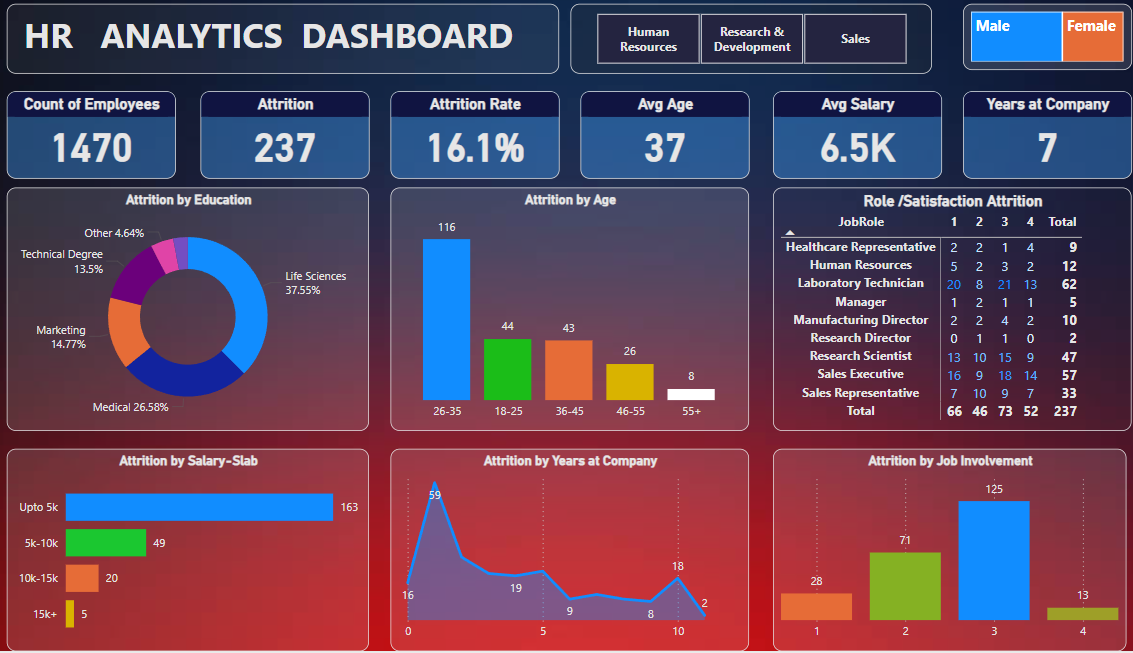

The dashboard page shown, as its layout file describes it:
{"tool":"powerbi","page":{"name":"Page 1","canvas":[1280,720],"ordinal":0},"visuals":[{"type":"card","title":"Count of Employees","fields":{"Values":["CountNonNull(HR_Analytics.EmpID)"]},"box":[20.6,105.7,185.2,96.1],"z":0},{"type":"card","title":"Attrition","fields":{"Values":["Sum(HR_Analytics.AttritionCount)"]},"box":[233.3,105.7,185.2,96.1],"z":1000},{"type":"card","title":"Avg Salary","fields":{"Values":["Avg(HR_Analytics.MonthlyIncome)"]},"box":[861.8,105.7,185.2,96.1],"z":2000},{"type":"card","title":"Attrition Rate","fields":{"Values":["HR_Analytics.AttritionRate"]},"box":[441.9,105.7,185.2,96.1],"z":3000},{"type":"card","title":"Years at Company","fields":{"Values":["Avg(HR_Analytics.YearsAtCompany)"]},"box":[1070.3,105.7,185.2,96.1],"z":4000},{"type":"card","title":"Avg Age","fields":{"Values":["Avg(HR_Analytics.Age)"]},"box":[650.4,105.7,185.2,96.1],"z":5000},{"type":"donutChart","title":"Attrition by Education","fields":{"Y":["Sum(HR_Analytics.AttritionCount)"],"Category":["HR_Analytics.EducationField"]},"box":[20.6,211.3,397.9,267.6],"z":6000},{"type":"columnChart","title":"Attrition by Age","fields":{"Y":["Sum(HR_Analytics.AttritionCount)"],"Category":["HR_Analytics.AgeGroup"]},"box":[441.9,211.3,393.8,267.6],"z":7000},{"type":"pivotTable","title":"Role /Satisfaction Attrition             ","fields":{"Rows":["HR_Analytics.JobRole"],"Values":["Sum(HR_Analytics.AttritionCount)"],"Columns":["HR_Analytics.JobSatisfaction"]},"box":[861.8,211.3,393.8,267.6],"z":8000},{"type":"barChart","title":"Attrition by Salary-Slab","fields":{"Category":["HR_Analytics.SalarySlab"],"Y":["Sum(HR_Analytics.AttritionCount)"]},"box":[20.6,498.1,397.9,222.3],"z":9000},{"type":"clusteredColumnChart","title":"Attrition by Job Involvement","fields":{"Category":["HR_Analytics.JobInvolvement"],"Y":["Sum(HR_Analytics.AttritionCount)"]},"box":[861.8,498.1,388.3,222.3],"z":10000},{"type":"areaChart","title":"Attrition by Years at Company","fields":{"Category":["HR_Analytics.YearsAtCompany"],"Y":["Sum(HR_Analytics.AttritionCount)"]},"box":[441.9,498.1,393.8,222.3],"z":11000},{"type":"treemap","title":"Gender","fields":{"Group":["HR_Analytics.Gender"],"Values":["CountNonNull(HR_Analytics.Attrition)"]},"box":[1070.3,9.6,185.2,72.7],"z":12000},{"type":"slicer","fields":{"Values":["HR_Analytics.Department"]},"box":[639.5,9.6,396.6,76.8],"z":13000},{"type":"textbox","box":[20.6,9.6,606.5,76.8],"z":14000}]}

Visuals, with their boxes in screenshot pixels (x1, y1, x2, y2), scaled from the page's 1280x720 canvas onto the 1133x653 screenshot:
"Count of Employees" card: x1=18 y1=96 x2=182 y2=183
"Attrition" card: x1=207 y1=96 x2=370 y2=183
"Avg Salary" card: x1=763 y1=96 x2=927 y2=183
"Attrition Rate" card: x1=391 y1=96 x2=555 y2=183
"Years at Company" card: x1=947 y1=96 x2=1111 y2=183
"Avg Age" card: x1=576 y1=96 x2=740 y2=183
"Attrition by Education" donutChart: x1=18 y1=192 x2=370 y2=434
"Attrition by Age" columnChart: x1=391 y1=192 x2=740 y2=434
"Role /Satisfaction Attrition             " pivotTable: x1=763 y1=192 x2=1111 y2=434
"Attrition by Salary-Slab" barChart: x1=18 y1=452 x2=370 y2=652
"Attrition by Job Involvement" clusteredColumnChart: x1=763 y1=452 x2=1107 y2=652
"Attrition by Years at Company" areaChart: x1=391 y1=452 x2=740 y2=652
"Gender" treemap: x1=947 y1=9 x2=1111 y2=75
slicer - HR_Analytics.Department: x1=566 y1=9 x2=917 y2=78
textbox: x1=18 y1=9 x2=555 y2=78
